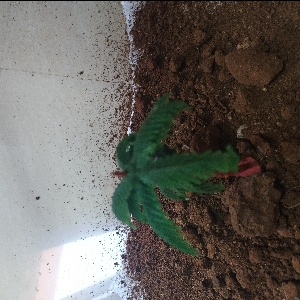plant: (77, 70, 271, 259)
